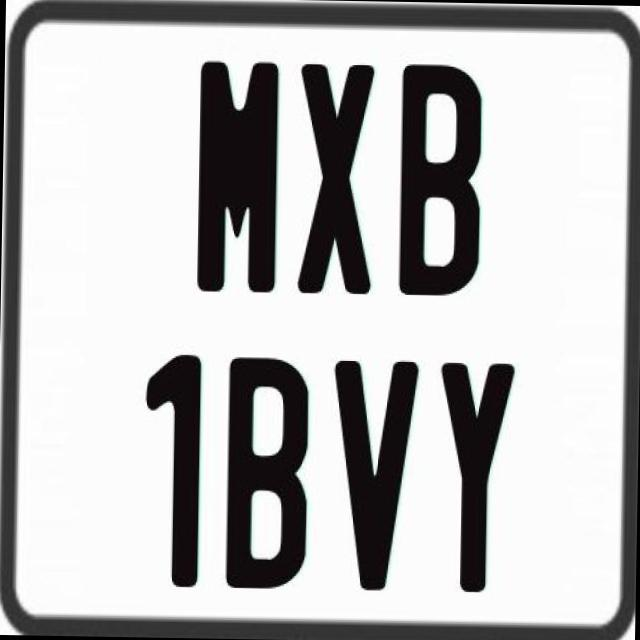1: (138, 349, 198, 584)
B: (224, 352, 312, 587), (398, 64, 483, 304)
M: (195, 56, 285, 296)
V: (332, 358, 424, 596)
X: (294, 60, 372, 292)
Y: (436, 362, 514, 602)
